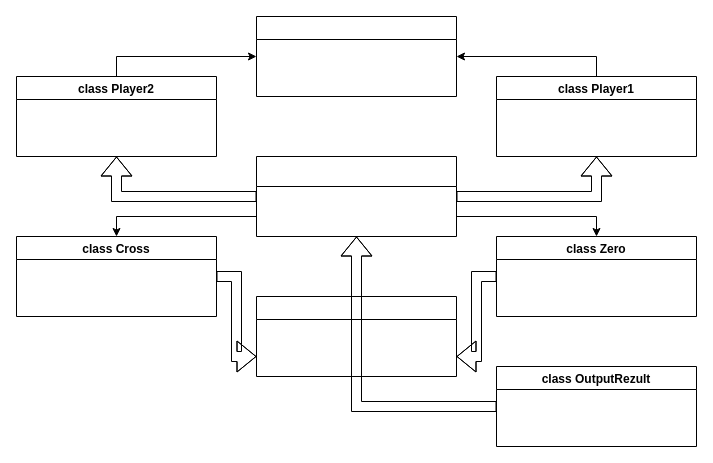
This 713x463 diagram has some shape labels left out. Each missing label, with the box of its shape:
class Logic: (256, 156, 456, 236)
interface Figure: (256, 296, 456, 376)
interface player: (256, 16, 456, 96)
